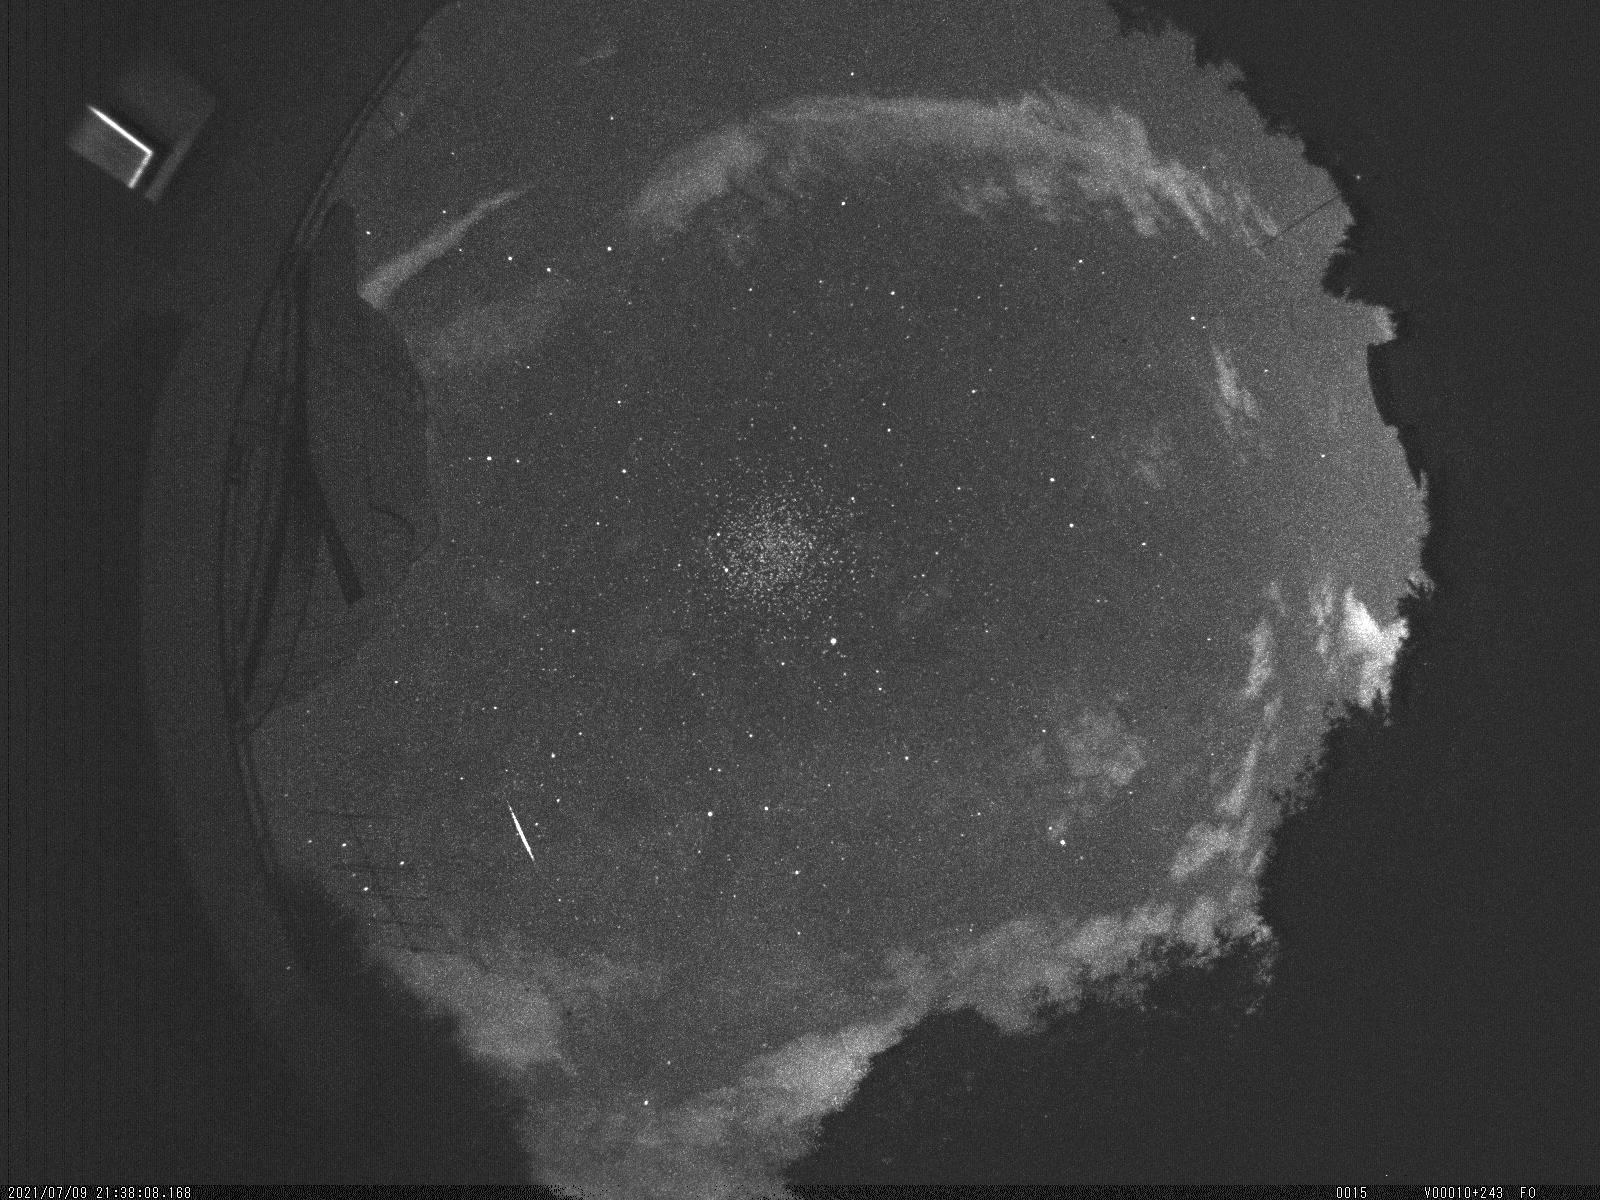Meteor: (504, 794, 543, 877)
